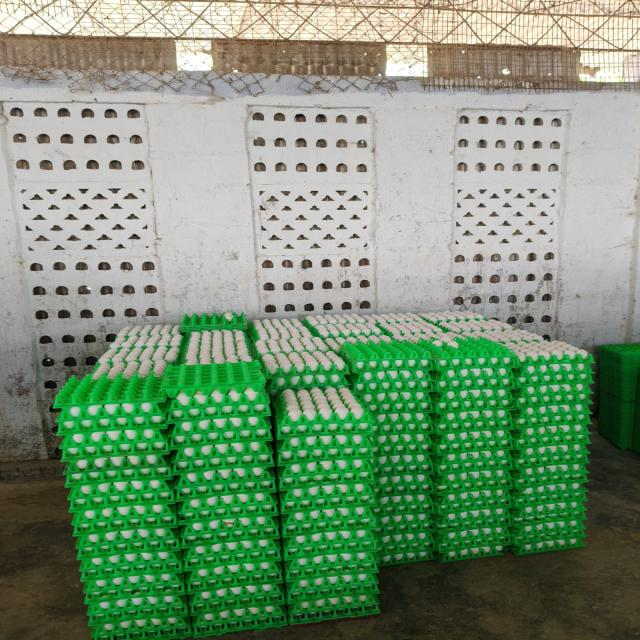egg_tray: (61, 376, 179, 604), (276, 389, 377, 623), (176, 417, 279, 632), (177, 447, 284, 636), (178, 449, 285, 636), (507, 336, 592, 553), (431, 338, 511, 561), (460, 321, 585, 438), (167, 363, 274, 499), (358, 380, 433, 564), (359, 388, 434, 565), (169, 378, 275, 500), (57, 374, 170, 486), (70, 468, 177, 582), (344, 342, 431, 477), (71, 479, 181, 581), (84, 528, 188, 629), (481, 331, 592, 424), (175, 429, 277, 529), (185, 535, 285, 636), (69, 474, 176, 567), (177, 456, 279, 548), (284, 525, 378, 624), (190, 539, 285, 636), (59, 376, 167, 461), (57, 376, 166, 460), (177, 456, 278, 546), (168, 363, 270, 450), (177, 460, 279, 547), (374, 414, 433, 564), (284, 529, 377, 623), (284, 507, 377, 600), (190, 535, 284, 626), (421, 314, 592, 364), (512, 439, 586, 552), (373, 412, 433, 543), (182, 536, 282, 614), (445, 319, 592, 371), (189, 556, 285, 635), (432, 340, 512, 432), (89, 567, 188, 640), (433, 470, 511, 561), (431, 347, 513, 432), (374, 449, 434, 565), (89, 572, 191, 640), (419, 338, 515, 410), (54, 374, 166, 435), (251, 319, 347, 390), (281, 465, 377, 536), (432, 410, 512, 494), (283, 528, 377, 599), (276, 389, 370, 460), (341, 339, 431, 413), (512, 463, 586, 552), (285, 541, 377, 611), (281, 459, 372, 529), (514, 351, 592, 428), (78, 527, 182, 582), (349, 368, 433, 435), (274, 388, 372, 445), (405, 314, 515, 364), (512, 479, 586, 552), (271, 386, 371, 438), (255, 336, 348, 390), (90, 591, 191, 640), (93, 325, 182, 379), (58, 402, 166, 446), (278, 440, 372, 490), (350, 369, 432, 426), (343, 320, 430, 373), (434, 443, 511, 502), (598, 343, 639, 453), (375, 490, 435, 565), (514, 461, 586, 522), (482, 320, 588, 360), (72, 495, 177, 535), (167, 381, 269, 422), (60, 423, 169, 461), (68, 473, 174, 512), (436, 509, 512, 561), (515, 420, 588, 474), (81, 543, 182, 582), (282, 495, 377, 536), (72, 498, 177, 535), (341, 338, 430, 381), (506, 340, 592, 384), (163, 361, 265, 398), (181, 510, 280, 548), (63, 454, 172, 488), (87, 594, 188, 630), (420, 314, 545, 343), (417, 313, 542, 342), (431, 368, 513, 412), (433, 455, 511, 501), (175, 466, 275, 501), (68, 479, 174, 512), (274, 387, 367, 424), (84, 570, 185, 604), (178, 491, 278, 525), (424, 333, 515, 370), (433, 474, 511, 517), (173, 440, 273, 473), (189, 604, 286, 638), (76, 528, 179, 560), (169, 416, 270, 448), (431, 418, 514, 455), (280, 483, 375, 515), (277, 433, 372, 465), (511, 515, 585, 554), (419, 314, 520, 342), (342, 316, 425, 350), (289, 593, 380, 624), (418, 312, 534, 336), (432, 487, 511, 522), (341, 341, 430, 372), (446, 320, 544, 348), (597, 387, 639, 452), (374, 430, 433, 476), (92, 613, 191, 640), (432, 423, 513, 455), (81, 555, 180, 581), (181, 330, 254, 365), (326, 314, 413, 343), (516, 380, 589, 414), (92, 616, 191, 640), (449, 319, 545, 343), (372, 410, 434, 447), (438, 318, 535, 341), (350, 368, 431, 395), (268, 368, 347, 394), (514, 422, 589, 449), (358, 389, 433, 416), (378, 314, 450, 342), (378, 531, 435, 566), (434, 447, 510, 473), (215, 417, 269, 453), (279, 439, 326, 480), (215, 417, 269, 452), (375, 472, 434, 504), (255, 336, 340, 358), (366, 312, 445, 335), (305, 315, 381, 338), (404, 313, 462, 342), (85, 593, 153, 617), (112, 324, 180, 348), (385, 336, 430, 371), (190, 554, 235, 589), (380, 321, 451, 343), (324, 334, 391, 357), (249, 318, 313, 342), (315, 334, 390, 354), (180, 312, 247, 334), (444, 412, 510, 433), (313, 323, 381, 343), (407, 312, 491, 327), (371, 312, 483, 323), (186, 562, 228, 590), (331, 439, 371, 467), (325, 334, 391, 350), (318, 336, 376, 354), (90, 602, 150, 619), (303, 314, 374, 328), (419, 312, 486, 326), (351, 354, 399, 372), (364, 312, 426, 325), (418, 312, 487, 322), (292, 436, 340, 450), (85, 583, 115, 605), (362, 312, 417, 324), (191, 567, 215, 588), (376, 314, 413, 326), (370, 352, 396, 368), (177, 445, 211, 456), (382, 500, 402, 517), (155, 598, 185, 609), (133, 529, 165, 539), (90, 615, 110, 629), (120, 580, 135, 597), (155, 630, 180, 640), (143, 382, 158, 397), (309, 484, 341, 491), (81, 570, 101, 581), (394, 531, 413, 542), (122, 525, 147, 533), (223, 384, 247, 392), (327, 531, 351, 539), (146, 581, 162, 592), (560, 424, 573, 436), (197, 449, 214, 458), (403, 362, 428, 368), (416, 347, 427, 360), (130, 611, 147, 619), (539, 343, 558, 350), (173, 582, 184, 594), (105, 634, 127, 640), (346, 360, 356, 373), (313, 479, 329, 487), (442, 512, 451, 526), (138, 581, 146, 596), (168, 607, 181, 616), (177, 448, 189, 456), (123, 590, 135, 598), (404, 472, 420, 478), (303, 358, 315, 366), (575, 396, 584, 406), (199, 445, 210, 453), (93, 582, 101, 593), (212, 390, 221, 399), (238, 539, 251, 545), (182, 460, 190, 469), (192, 549, 200, 558), (307, 516, 314, 526), (374, 415, 388, 420), (77, 485, 90, 490), (255, 418, 263, 426), (103, 530, 119, 534), (79, 554, 91, 559), (495, 447, 509, 451), (121, 545, 129, 552), (522, 331, 533, 336), (138, 378, 144, 387), (141, 634, 154, 638), (334, 482, 347, 486), (174, 610, 187, 614), (177, 571, 181, 584), (119, 376, 127, 382), (160, 581, 172, 585), (435, 423, 443, 429), (433, 416, 441, 422), (101, 534, 109, 540), (353, 530, 365, 534), (324, 560, 330, 568), (380, 344, 389, 349), (299, 536, 314, 539), (477, 513, 486, 518), (367, 487, 372, 496), (140, 612, 147, 618), (262, 594, 269, 600), (230, 492, 244, 495), (197, 461, 204, 467), (469, 472, 475, 479), (361, 436, 366, 444), (214, 494, 222, 499), (161, 573, 171, 577), (70, 493, 78, 498), (217, 492, 230, 495), (162, 529, 171, 533), (239, 522, 248, 526), (147, 626, 153, 632), (440, 476, 449, 480), (514, 431, 521, 436), (318, 607, 325, 612), (415, 416, 420, 423), (84, 534, 91, 539), (559, 343, 570, 346), (84, 536, 95, 539), (178, 610, 186, 614), (551, 368, 559, 372), (563, 367, 571, 371), (396, 355, 402, 360), (81, 548, 91, 551), (165, 600, 170, 606), (396, 321, 403, 325), (215, 446, 219, 453), (325, 316, 339, 318), (451, 514, 460, 517), (442, 461, 447, 466), (166, 590, 171, 595), (318, 545, 323, 550), (422, 415, 427, 420), (158, 603, 163, 608), (452, 475, 457, 480), (333, 344, 339, 348), (465, 318, 473, 321), (578, 425, 582, 431), (99, 483, 107, 486), (182, 451, 188, 455), (182, 634, 190, 637), (399, 486, 407, 489), (148, 556, 152, 562), (273, 596, 276, 603), (403, 323, 410, 326), (479, 359, 484, 363), (387, 540, 392, 544), (578, 433, 583, 437), (454, 423, 459, 427), (472, 328, 477, 332), (377, 424, 381, 429), (359, 439, 363, 444), (183, 627, 188, 631), (228, 627, 234, 630), (84, 498, 90, 501), (542, 351, 548, 354), (529, 343, 535, 346), (233, 495, 237, 499), (257, 424, 259, 432), (335, 615, 351, 616), (293, 358, 297, 362), (174, 580, 178, 584), (225, 543, 230, 546), (78, 538, 83, 541), (186, 366, 191, 369), (381, 536, 384, 541), (405, 358, 412, 360), (221, 430, 228, 432), (226, 628, 233, 630), (578, 367, 582, 370), (116, 438, 119, 442), (95, 583, 99, 586), (580, 414, 583, 418), (577, 383, 583, 385), (247, 567, 251, 570), (190, 367, 196, 369), (427, 480, 430, 484), (536, 336, 540, 339), (506, 336, 510, 339), (99, 552, 105, 554), (393, 423, 397, 426), (391, 532, 395, 535), (461, 371, 464, 375), (499, 367, 505, 369), (488, 476, 492, 479), (268, 624, 279, 625), (572, 348, 577, 350), (141, 581, 143, 586), (466, 362, 471, 364), (406, 508, 411, 510), (385, 541, 390, 543), (376, 416, 381, 418), (238, 626, 243, 628), (260, 419, 263, 422), (122, 602, 125, 605), (505, 361, 508, 364), (178, 403, 181, 406), (356, 344, 359, 347), (410, 358, 413, 361), (186, 366, 189, 369), (361, 414, 364, 417), (521, 358, 524, 361), (114, 582, 116, 586), (89, 400, 93, 402), (498, 372, 502, 374), (582, 472, 584, 476), (85, 591, 89, 593), (166, 586, 170, 588), (339, 316, 343, 318), (366, 466, 370, 468), (125, 615, 129, 617), (172, 572, 180, 573), (330, 606, 332, 610), (325, 459, 329, 461), (483, 411, 490, 412), (259, 540, 266, 541), (137, 536, 140, 538), (292, 520, 294, 523), (136, 436, 139, 438), (92, 405, 94, 408), (91, 408, 94, 410), (105, 563, 108, 565), (194, 448, 197, 450), (224, 445, 230, 446), (489, 493, 492, 495), (498, 350, 501, 352), (471, 374, 474, 376), (107, 597, 110, 599), (142, 635, 148, 636), (172, 390, 174, 393), (588, 356, 590, 359), (128, 626, 130, 629), (344, 514, 347, 516), (320, 358, 323, 360), (105, 598, 108, 600), (231, 616, 234, 618), (161, 635, 166, 636), (517, 424, 522, 425), (420, 434, 425, 435), (239, 461, 241, 463), (167, 593, 169, 595), (183, 423, 185, 425), (402, 314, 404, 316), (556, 379, 558, 381), (139, 580, 141, 582), (151, 576, 153, 578), (257, 577, 258, 581), (436, 431, 438, 433), (187, 371, 189, 373), (307, 424, 309, 426), (361, 424, 363, 426), (285, 420, 287, 422), (162, 635, 166, 636), (90, 485, 94, 486), (525, 462, 527, 464), (131, 636, 135, 637), (185, 628, 187, 630), (401, 508, 403, 510), (387, 478, 389, 480), (337, 559, 339, 561), (105, 607, 107, 609), (619, 387, 623, 388), (376, 589, 377, 592), (231, 418, 234, 419), (475, 375, 478, 376), (373, 369, 376, 370), (565, 405, 566, 408), (546, 380, 549, 381), (214, 562, 215, 565), (409, 314, 412, 315), (399, 474, 402, 475), (363, 483, 366, 484), (530, 372, 533, 373), (238, 549, 241, 550), (122, 449, 124, 450), (218, 446, 219, 448), (106, 592, 108, 593), (454, 500, 456, 501), (510, 345, 512, 346), (222, 528, 224, 529), (216, 526, 217, 528), (207, 524, 208, 526), (129, 389, 130, 391), (154, 379, 156, 380), (562, 398, 564, 399), (411, 345, 412, 347), (87, 601, 88, 603), (123, 596, 125, 597), (407, 332, 408, 334), (416, 316, 417, 318), (212, 454, 214, 455), (141, 560, 142, 562), (78, 547, 80, 548), (173, 381, 175, 382), (176, 620, 177, 622), (506, 483, 508, 484), (279, 443, 281, 444), (171, 606, 172, 608), (109, 503, 111, 504), (476, 368, 477, 370), (169, 636, 170, 637), (385, 336, 386, 337), (511, 345, 512, 346), (223, 529, 224, 530), (434, 358, 435, 359), (398, 333, 399, 334), (176, 578, 177, 579), (222, 563, 223, 564), (132, 547, 133, 548), (366, 384, 367, 385), (318, 338, 319, 339), (385, 425, 386, 426), (298, 363, 299, 364), (367, 485, 368, 486), (416, 540, 417, 541), (131, 603, 132, 604), (507, 338, 508, 339), (276, 558, 277, 559), (116, 636, 122, 636), (187, 636, 188, 636), (364, 452, 366, 452), (176, 612, 177, 612), (181, 589, 181, 590), (490, 437, 490, 438), (278, 552, 278, 552), (163, 398, 163, 399), (274, 592, 276, 592), (245, 460, 245, 462), (174, 441, 174, 442), (220, 452, 221, 452), (189, 401, 190, 401), (460, 376, 466, 376), (361, 370, 361, 370), (514, 350, 515, 350), (180, 570, 181, 570), (133, 576, 147, 576), (260, 580, 262, 580), (209, 496, 212, 496), (492, 412, 498, 412), (183, 372, 184, 372), (181, 368, 182, 368), (394, 452, 394, 452), (156, 612, 157, 612), (150, 587, 150, 588), (172, 578, 172, 579), (161, 398, 162, 398), (211, 421, 212, 421), (161, 562, 161, 563), (466, 512, 468, 512), (367, 334, 370, 334), (74, 488, 74, 488), (226, 450, 228, 450), (360, 385, 361, 385), (125, 572, 125, 572), (116, 572, 117, 572), (118, 570, 119, 570)
